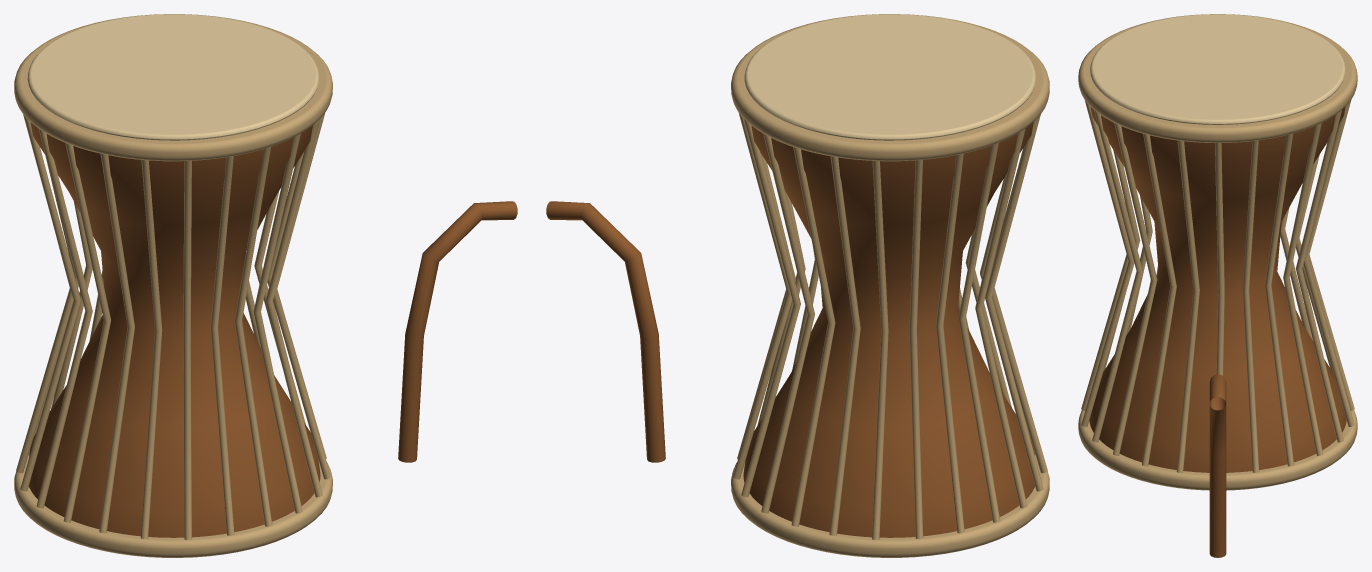
Rendered from gangan-drum.glb.
3 renders of one model, left to right at view 1: azimuth 30°, elevation 25°; view 2: azimuth 150°, elevation 25°; view 3: azimuth 270°, elevation 25°, orthographic. The views are drawn at different scales.
Parts seen in each view (by area): view 1: Gangan body study, Membrane.001, Tension hoop.001, Tension hoop, Curved beater, Tension thong.013, Tension thong.015, Tension thong.017, Tension thong.012, Tension thong.011, Tension thong.018, Tension thong.016 (+8 smaller); view 2: Gangan body study, Membrane.001, Tension hoop.001, Tension hoop, Curved beater, Tension thong.006, Tension thong.004, Tension thong.009, Tension thong.008, Tension thong.011, Tension thong.005, Tension thong.007 (+8 smaller); view 3: Gangan body study, Membrane.001, Tension hoop.001, Tension hoop, Curved beater, Tension thong.002, Tension thong.020, Tension thong.019, Tension thong.004, Tension thong.021, Tension thong.003, Tension thong.001 (+10 smaller).
Part boxes in pixels (x1=…): Gangan body study: x1=28, y1=122, x2=320, y2=537; Membrane.001: x1=27, y1=14, x2=319, y2=140; Tension hoop.001: x1=14, y1=14, x2=332, y2=161; Tension hoop: x1=14, y1=455, x2=332, y2=557; Curved beater: x1=398, y1=201, x2=517, y2=462; Tension thong.013: x1=99, y1=153, x2=134, y2=533; Tension thong.015: x1=183, y1=161, x2=191, y2=539; Tension thong.017: x1=234, y1=147, x2=272, y2=526; Tension thong.012: x1=63, y1=143, x2=110, y2=522; Tension thong.011: x1=36, y1=128, x2=92, y2=508; Tension thong.018: x1=253, y1=133, x2=302, y2=513; Tension thong.016: x1=210, y1=156, x2=234, y2=535; Gangan body study: x1=743, y1=122, x2=1035, y2=537; Membrane.001: x1=744, y1=14, x2=1036, y2=140; Tension hoop.001: x1=731, y1=14, x2=1049, y2=161; Tension hoop: x1=731, y1=455, x2=1049, y2=557; Curved beater: x1=546, y1=201, x2=665, y2=462; Tension thong.006: x1=829, y1=156, x2=860, y2=535; Tension thong.004: x1=761, y1=133, x2=814, y2=513; Tension thong.009: x1=936, y1=153, x2=964, y2=533; Tension thong.008: x1=909, y1=160, x2=923, y2=538; Tension thong.011: x1=975, y1=128, x2=1027, y2=508; Tension thong.005: x1=791, y1=147, x2=835, y2=526; Tension thong.007: x1=872, y1=161, x2=888, y2=539; Gangan body study: x1=1089, y1=107, x2=1346, y2=472; Membrane.001: x1=1090, y1=14, x2=1345, y2=124; Tension hoop.001: x1=1078, y1=14, x2=1357, y2=142; Tension hoop: x1=1078, y1=410, x2=1357, y2=490; Curved beater: x1=1209, y1=374, x2=1226, y2=557; Tension thong.002: x1=1265, y1=133, x2=1293, y2=466; Tension thong.020: x1=1142, y1=133, x2=1176, y2=466; Tension thong.019: x1=1113, y1=123, x2=1157, y2=455; Tension thong.004: x1=1295, y1=110, x2=1343, y2=442; Tension thong.021: x1=1176, y1=140, x2=1199, y2=472; Tension thong.003: x1=1283, y1=123, x2=1322, y2=455; Tension thong.001: x1=1242, y1=140, x2=1259, y2=472.
Bounding box in the file's own units: 2.05 × 1.81 × 1.18.
